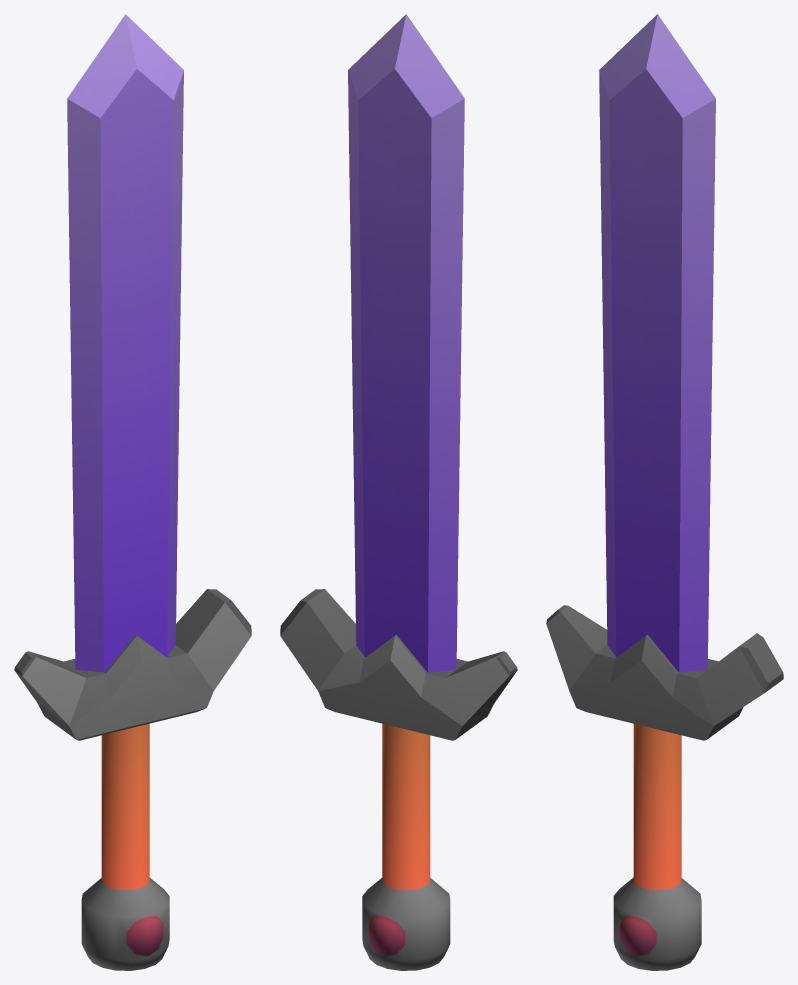
Rendered from sword-by-minipoly-eclLAgGuob.glb.
3 renders of one model, left to right at view 1: azimuth 30°, elevation 25°; view 2: azimuth 150°, elevation 25°; view 3: azimuth 330°, elevation 25°, orthographic.
Parts seen in each view (by area): view 1: Sword1.002; view 2: Sword1.002; view 3: Sword1.002.
Part boxes in pixels (x1,y1,x2,y2): Sword1.002: (14, 14, 251, 970); Sword1.002: (280, 14, 517, 970); Sword1.002: (546, 14, 783, 970).
Bounding box in the file's own units: 0.4359 × 1.74 × 0.1645.
1 material, 1 textured.
